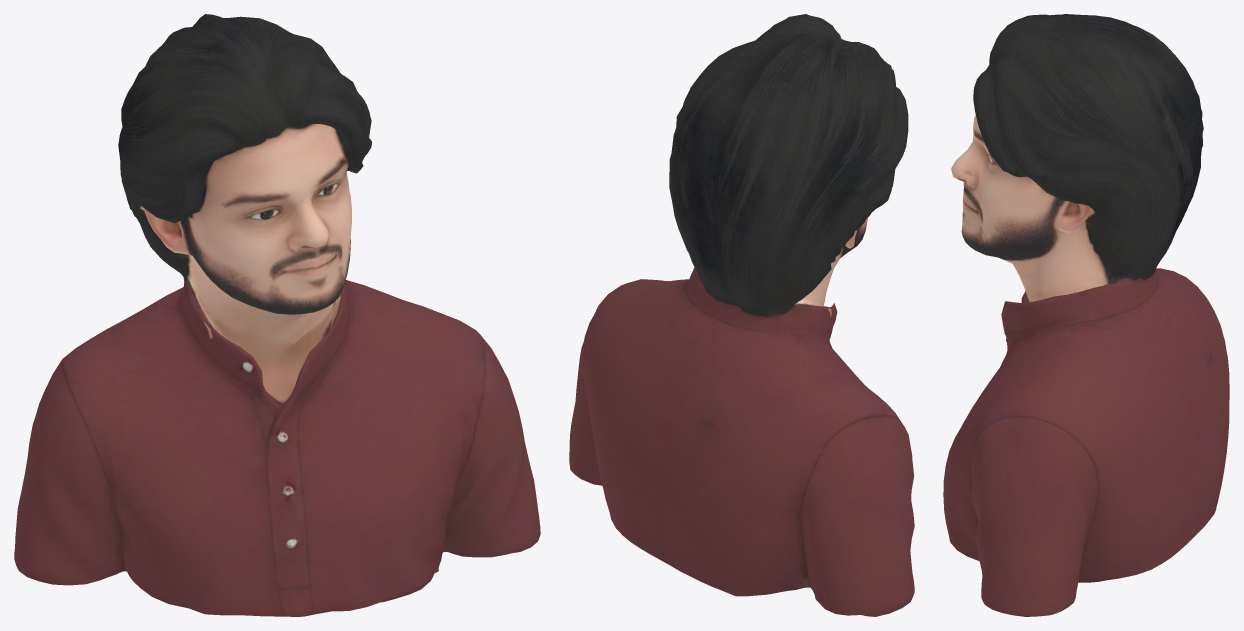
File: akshay_cp_animated3.glb
The picture shows the model from 3 angles, left to right: view 1: azimuth 30°, elevation 25°; view 2: azimuth 150°, elevation 25°; view 3: azimuth 270°, elevation 25°; orthographic projection. The views are drawn at different scales.
Parts seen in each view (by area): view 1: tripo_node_415cab02-8d75-4a72-8963-49ad67c993b0; view 2: tripo_node_415cab02-8d75-4a72-8963-49ad67c993b0; view 3: tripo_node_415cab02-8d75-4a72-8963-49ad67c993b0.
Part boxes in pixels (left/top/right/bottom): tripo_node_415cab02-8d75-4a72-8963-49ad67c993b0: left=14, top=14, right=540, bottom=616; tripo_node_415cab02-8d75-4a72-8963-49ad67c993b0: left=569, top=14, right=914, bottom=616; tripo_node_415cab02-8d75-4a72-8963-49ad67c993b0: left=943, top=14, right=1229, bottom=616.
Bounding box in the file's own units: 0.766 × 0.9195 × 0.488.
1 material, 1 textured.
